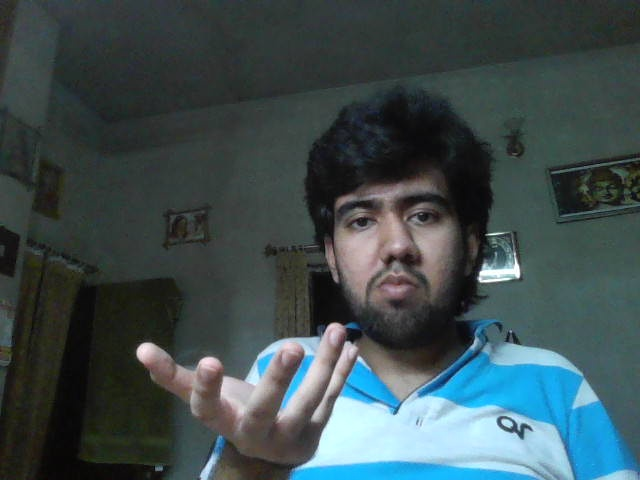What: (136, 322, 359, 467)
